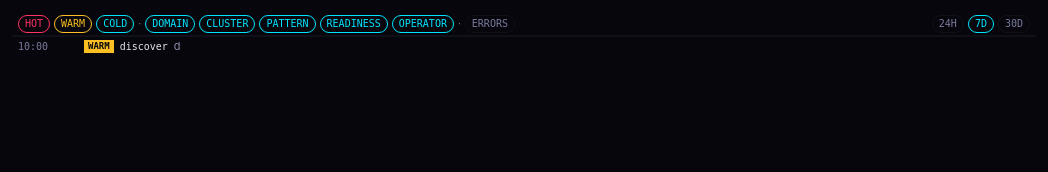
Test: DomainLifecycleTimeline › clicking a row reveals the context payload (T8)
Click the button with class "timeline-row" at {"x": 33, "y": 46}, box [12,36,1036,56]
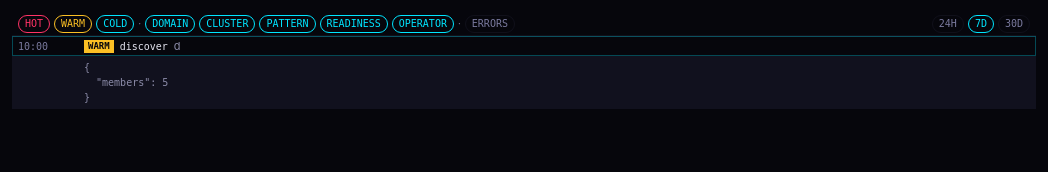
Check: the text "{ \"members\": 5 }" is shown, box [12,56,1036,109]
